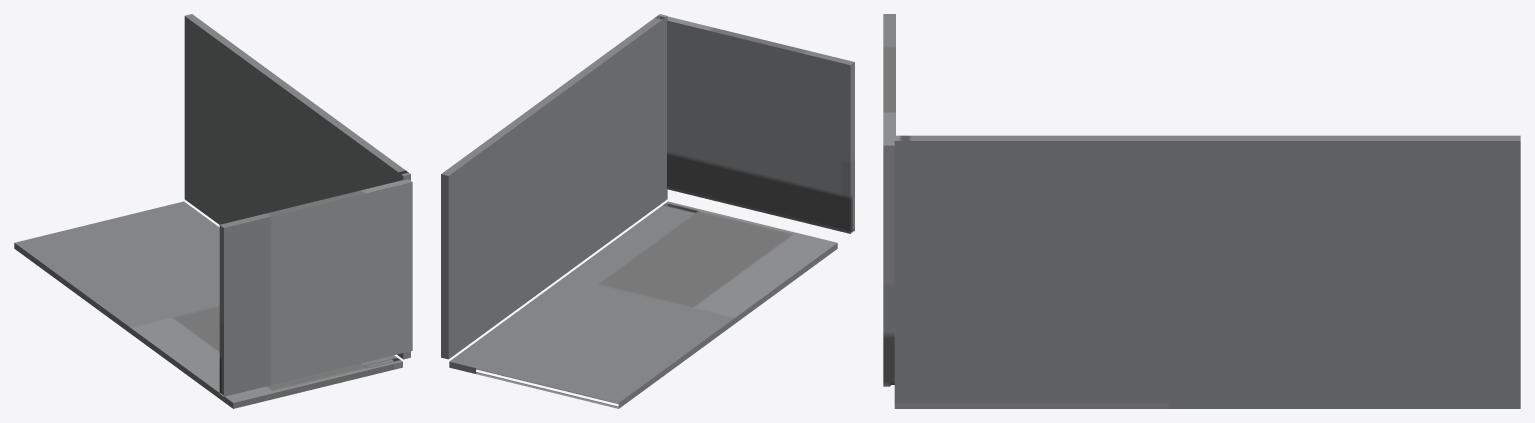
3 renders of one model, left to right at view 1: azimuth 30°, elevation 25°; view 2: azimuth 150°, elevation 25°; view 3: azimuth 270°, elevation 25°, orthographic. The views are drawn at different scales.
Bounding box in the file's own units: 1 × 0.96 × 2.03.
